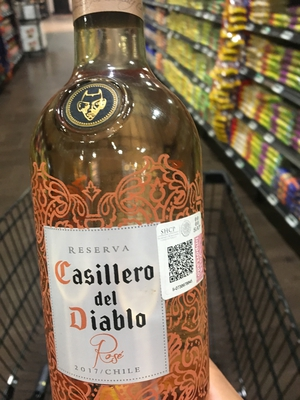casillero del diablo rose: (31, 29, 217, 397)
